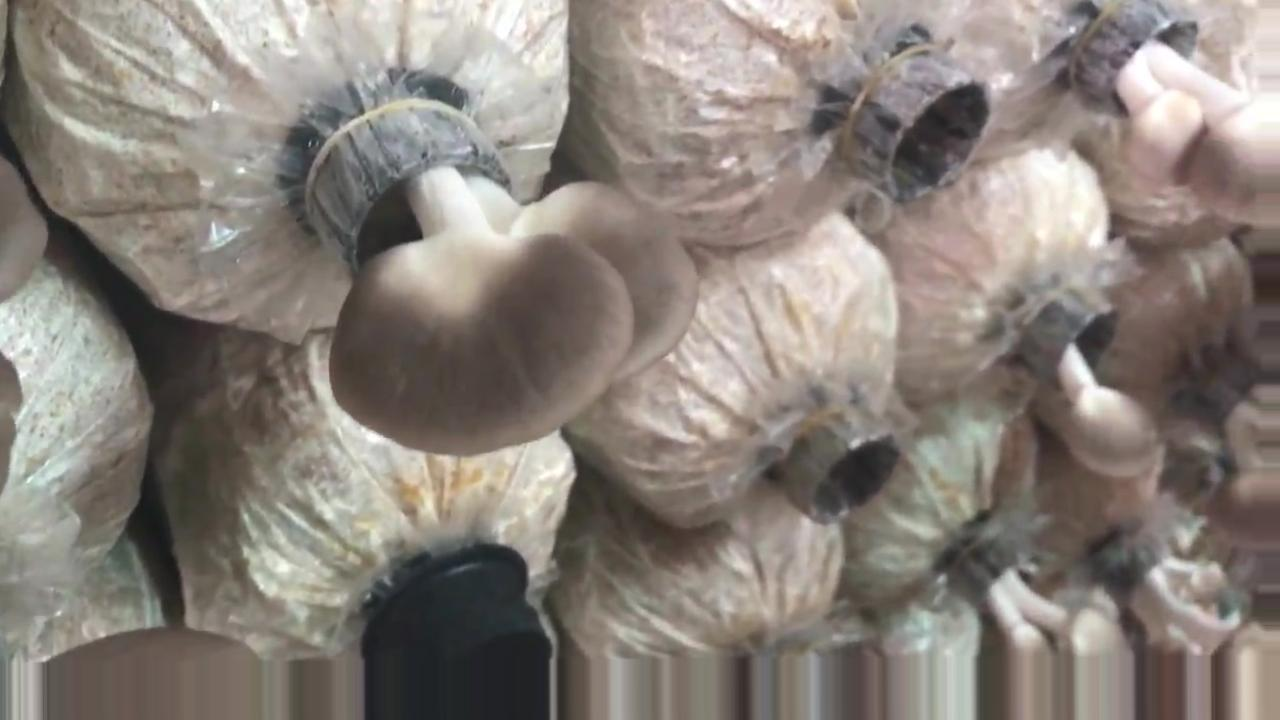nam: (327, 95, 695, 452), (1084, 9, 1280, 232), (1034, 282, 1159, 478), (952, 527, 1127, 650)
